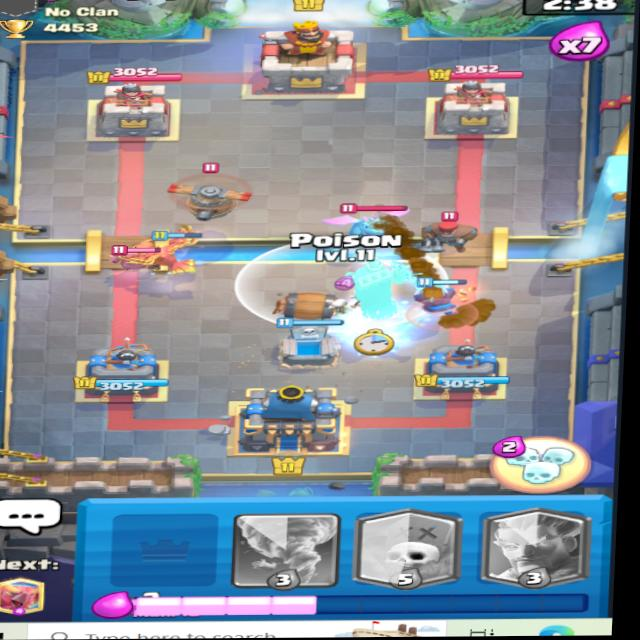baby-dragon: (328, 200, 415, 249)
flying-machine: (157, 160, 257, 221)
hunter: (405, 208, 484, 252)
mini-pekka: (108, 240, 163, 271)
